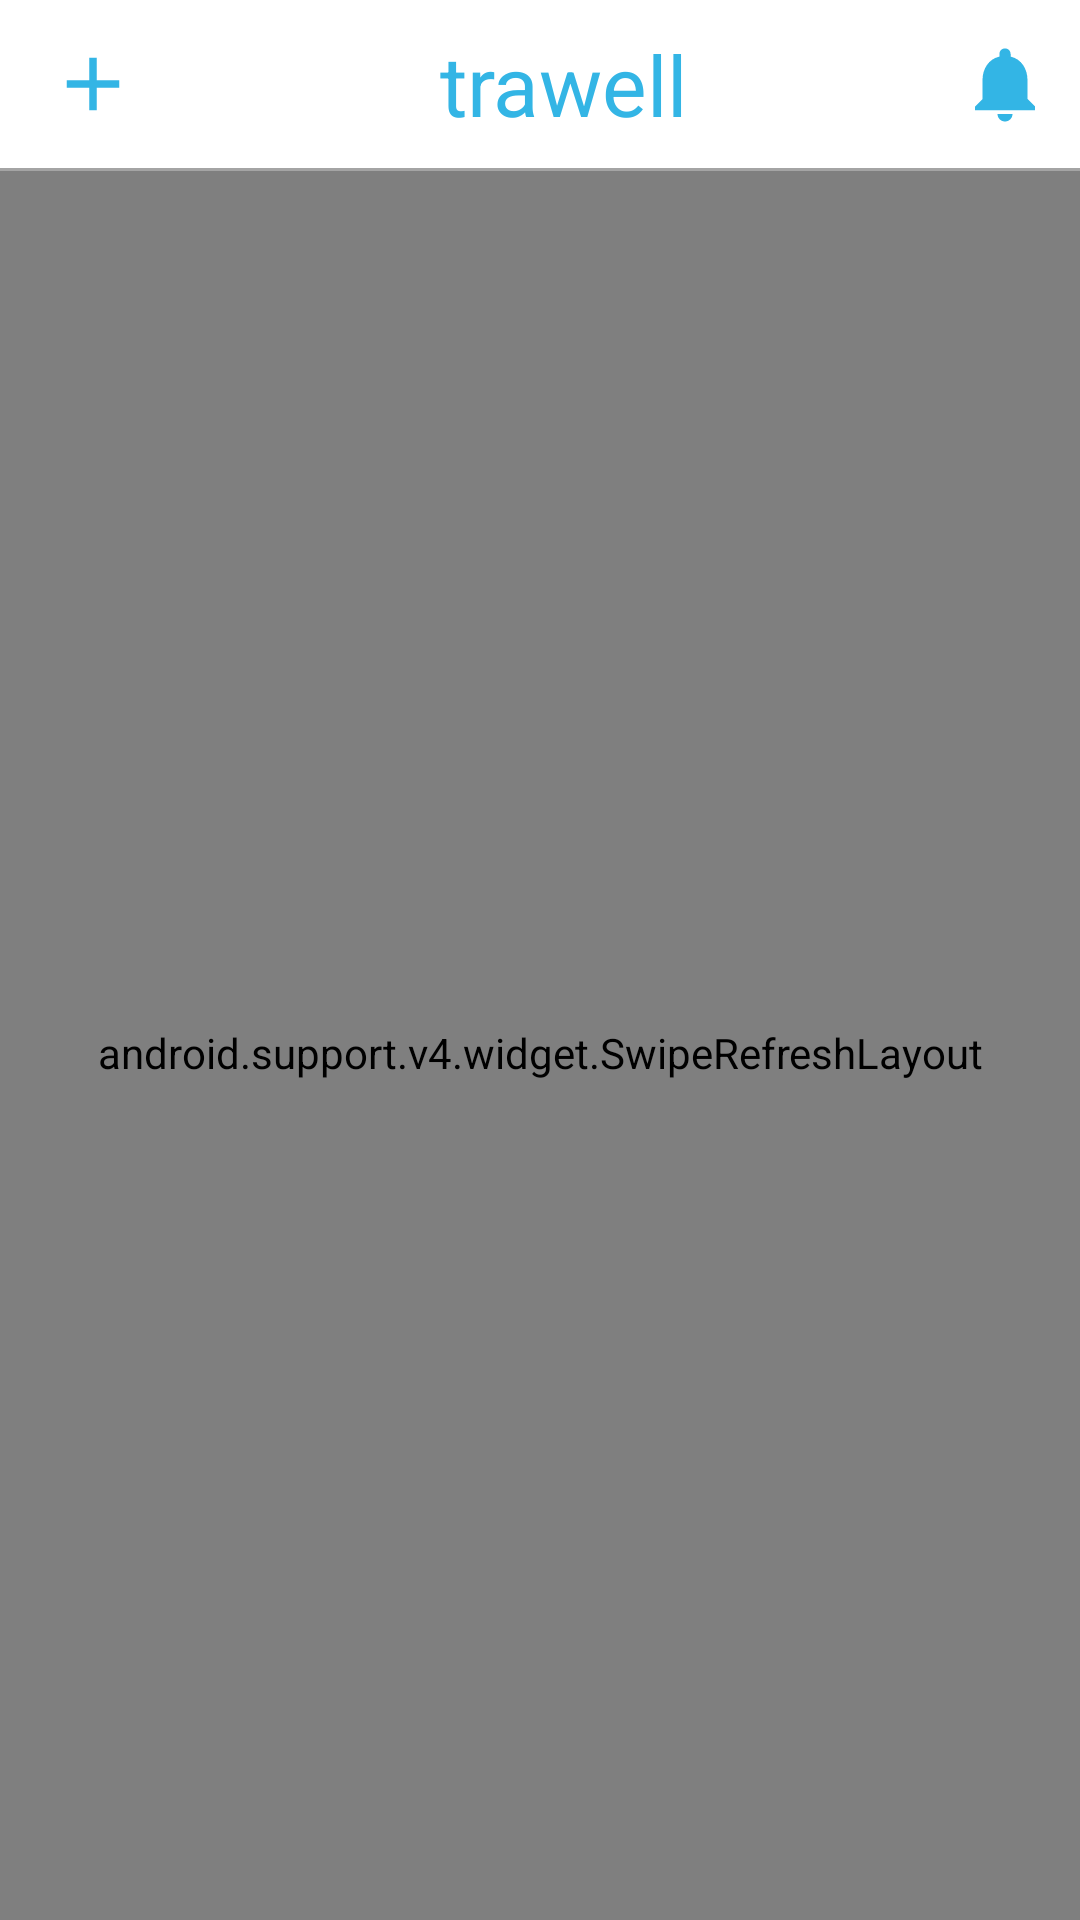

Icons on this 1080w x 1920h Android screen, each with the point to tap as point (x, y):
add: point (93, 84)
notification: point (1005, 85)
